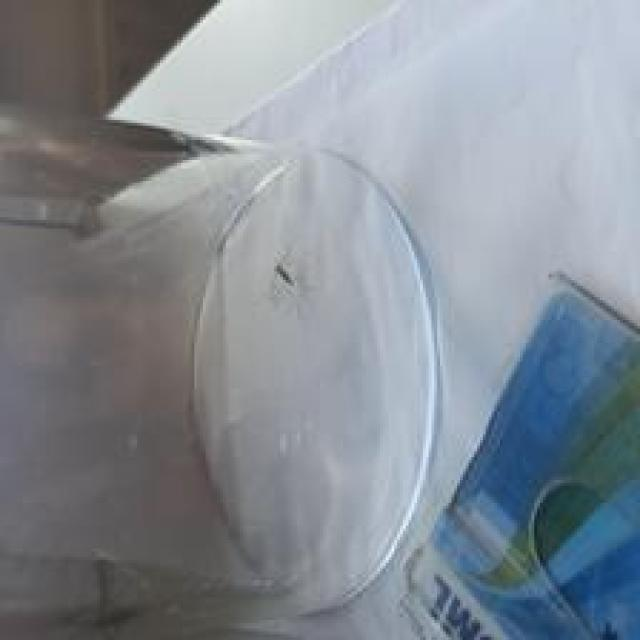Culex: (0, 94, 446, 637)
